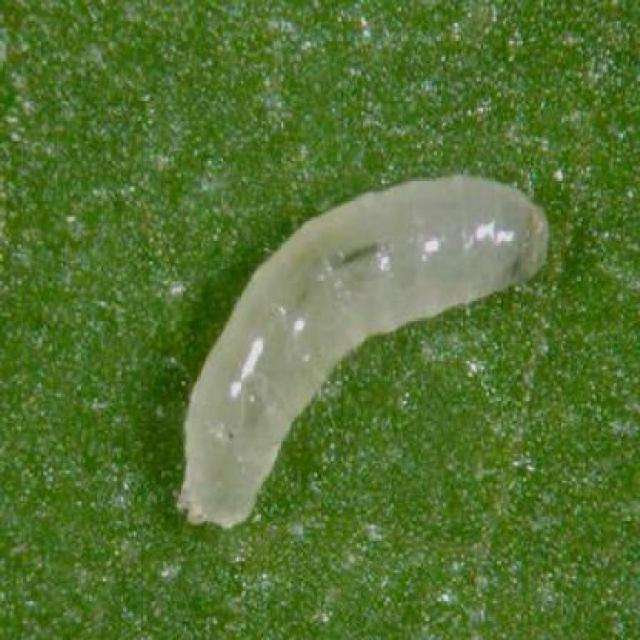whorl-maggot: (172, 163, 556, 537)
